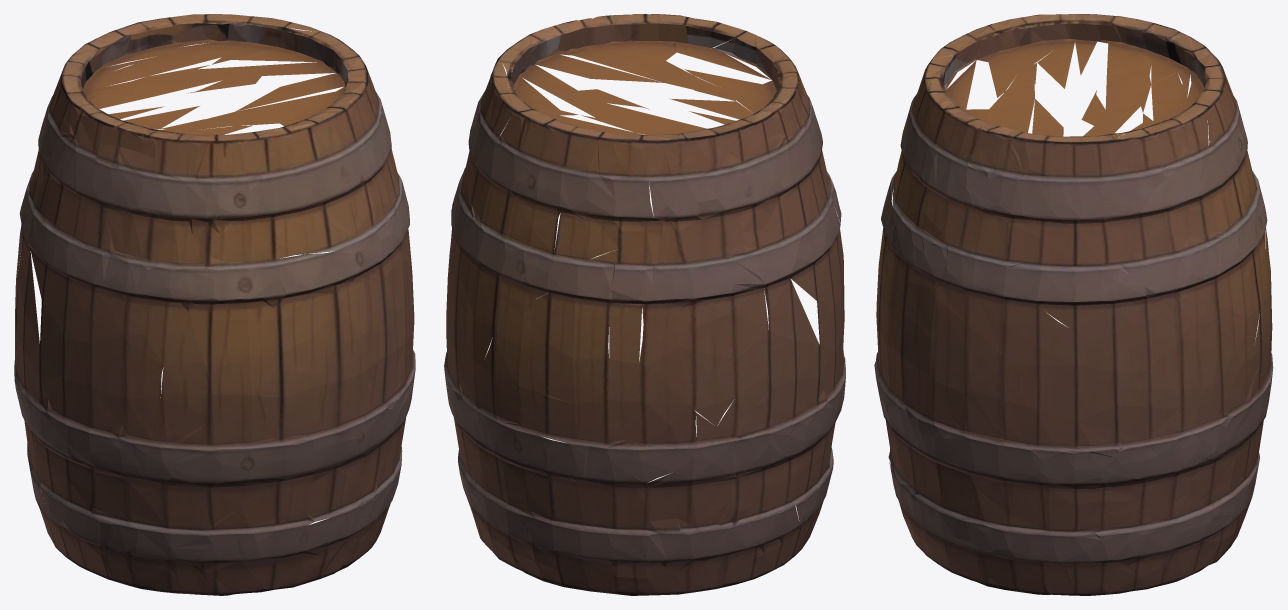
Rendered from wine_barrel.glb.
The picture shows the model from 3 angles, left to right: view 1: azimuth 30°, elevation 25°; view 2: azimuth 150°, elevation 25°; view 3: azimuth 270°, elevation 25°; orthographic projection.
Parts seen in each view (by area): view 1: geometry_0; view 2: geometry_0; view 3: geometry_0.
Boxes of the visible parts, x1=… form: geometry_0: x1=14, y1=14, x2=415, y2=595; geometry_0: x1=444, y1=14, x2=845, y2=595; geometry_0: x1=874, y1=14, x2=1273, y2=595.
Bounding box in the file's own units: 0.7352 × 0.9 × 0.7228.
Materials: 1 (1 with a texture image).
